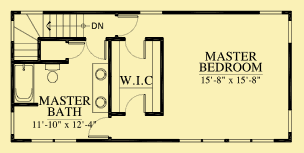door: (115, 14, 139, 37), (87, 116, 111, 138), (124, 38, 147, 60), (125, 92, 146, 115), (85, 39, 107, 60), (68, 40, 85, 60)
large_sink: (42, 64, 61, 84)
small_sink: (91, 61, 109, 114)
stairs: (13, 14, 85, 62)
tub: (13, 64, 36, 102)
window: (29, 137, 78, 144), (9, 109, 16, 135), (259, 10, 282, 15), (287, 20, 292, 43)
